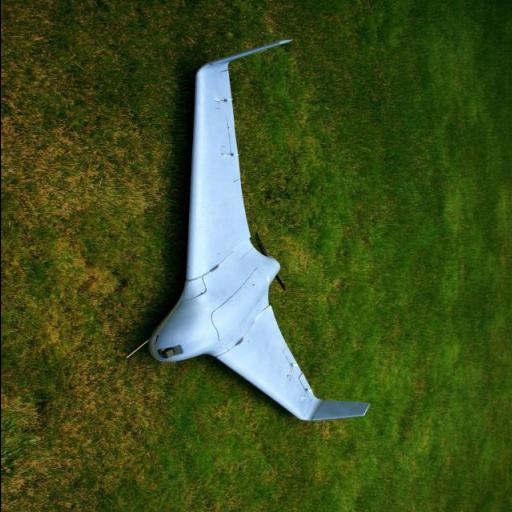uav: (129, 28, 373, 426)
